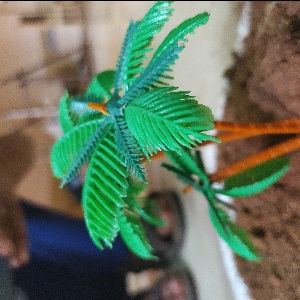plant: (51, 3, 300, 265)
